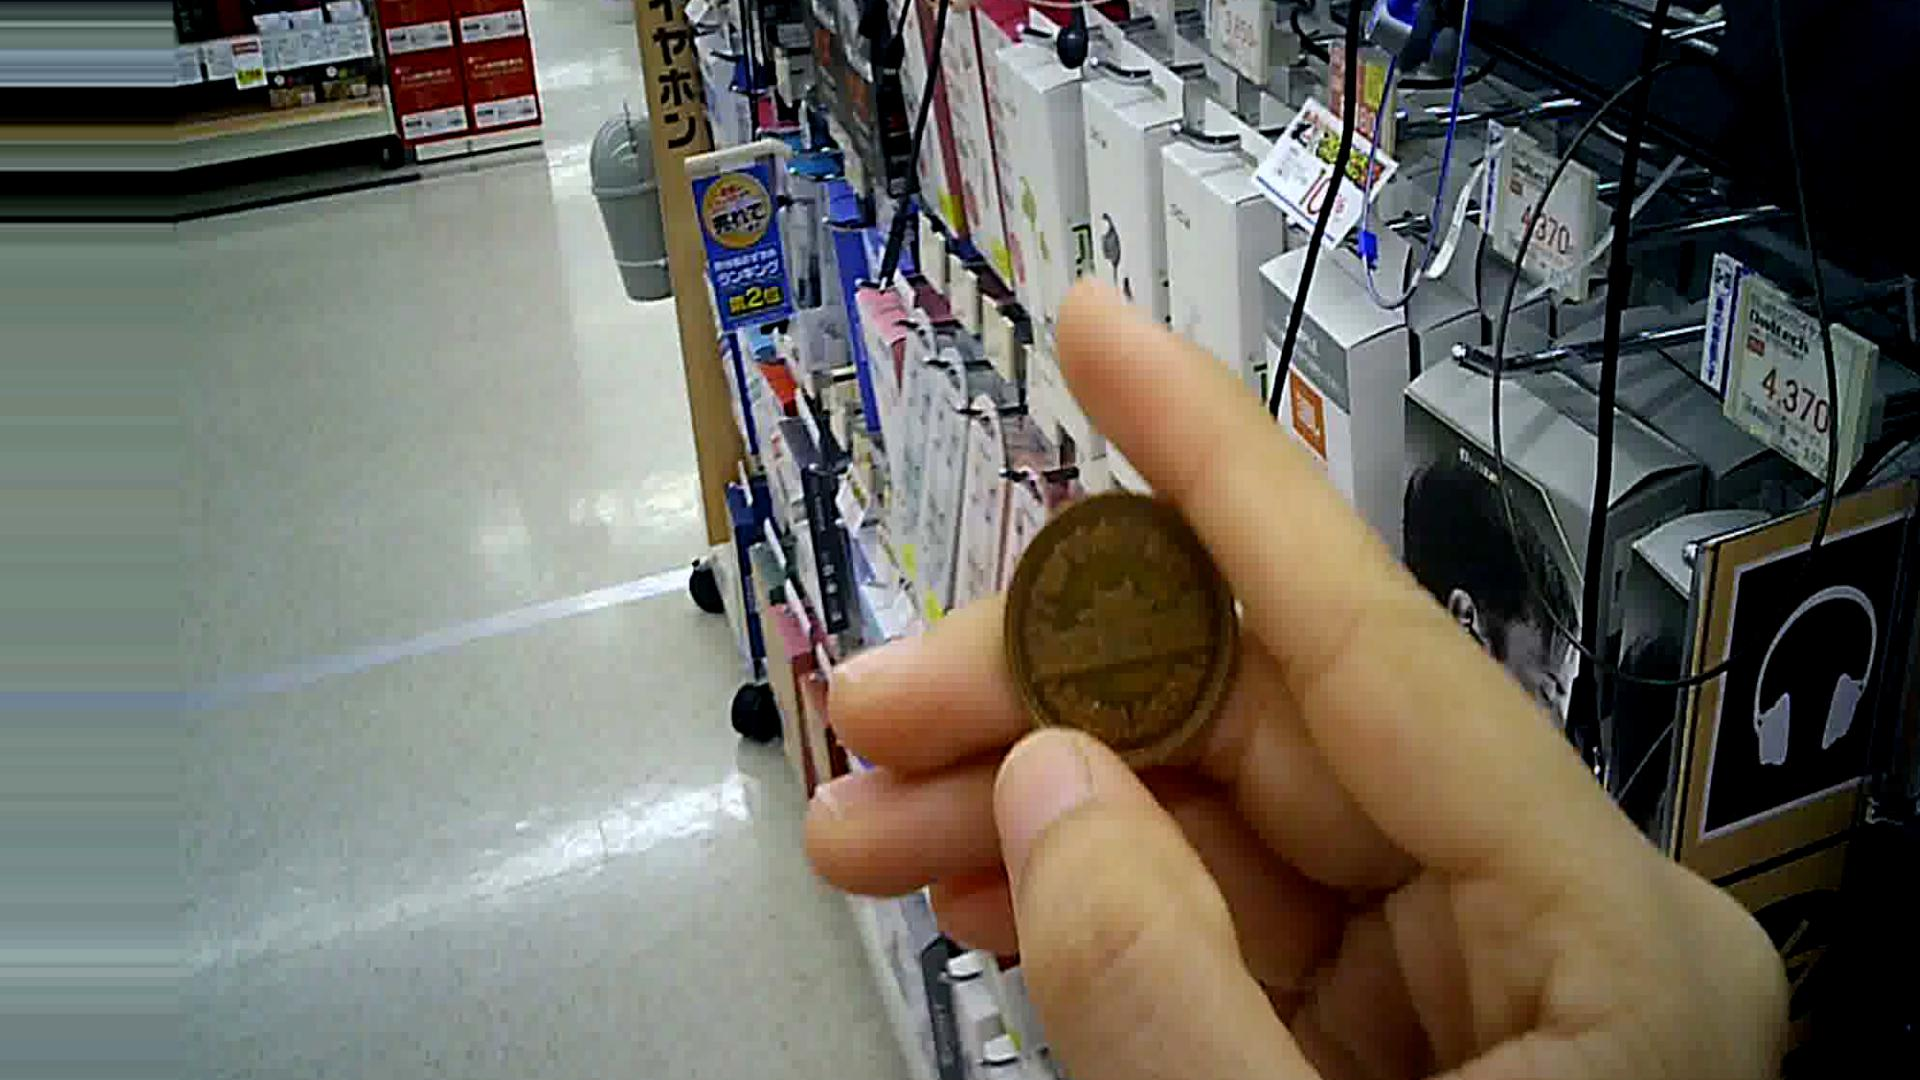10 Yen: (1006, 488, 1246, 760)
